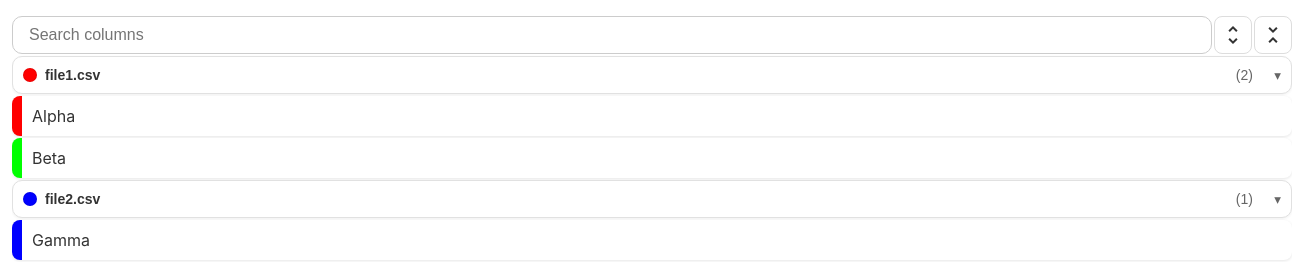
Test: <ColumnSearchList /> › toggles individual group collapse state
The width and height of the screenshot is (1304, 278).
Expected: the list item "Alpha" is shown, [12, 96, 1292, 136]
Expected: the list item "Beta" is shown, [12, 138, 1292, 178]
// Click to collapse first group
Click the button named "file1.csv - 2 columns": click(73, 75) [12, 56, 1292, 94]
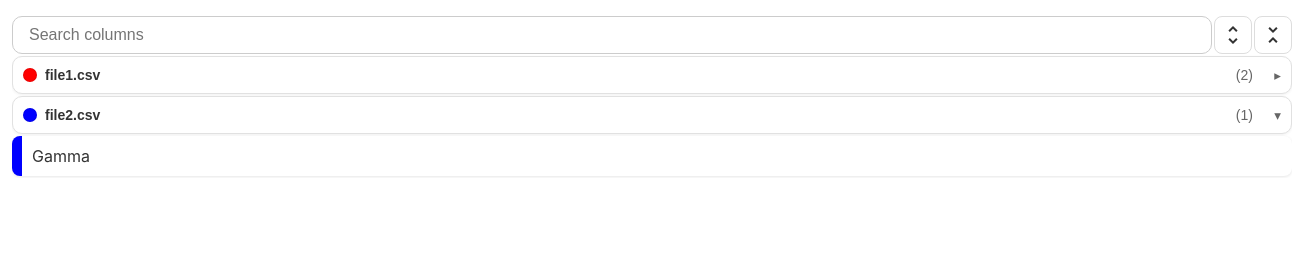
Expected: the list item "Gamma" is shown, [12, 136, 1292, 176]
Expected: the list item "Alpha" is gone
Expected: the list item "Beta" is gone
